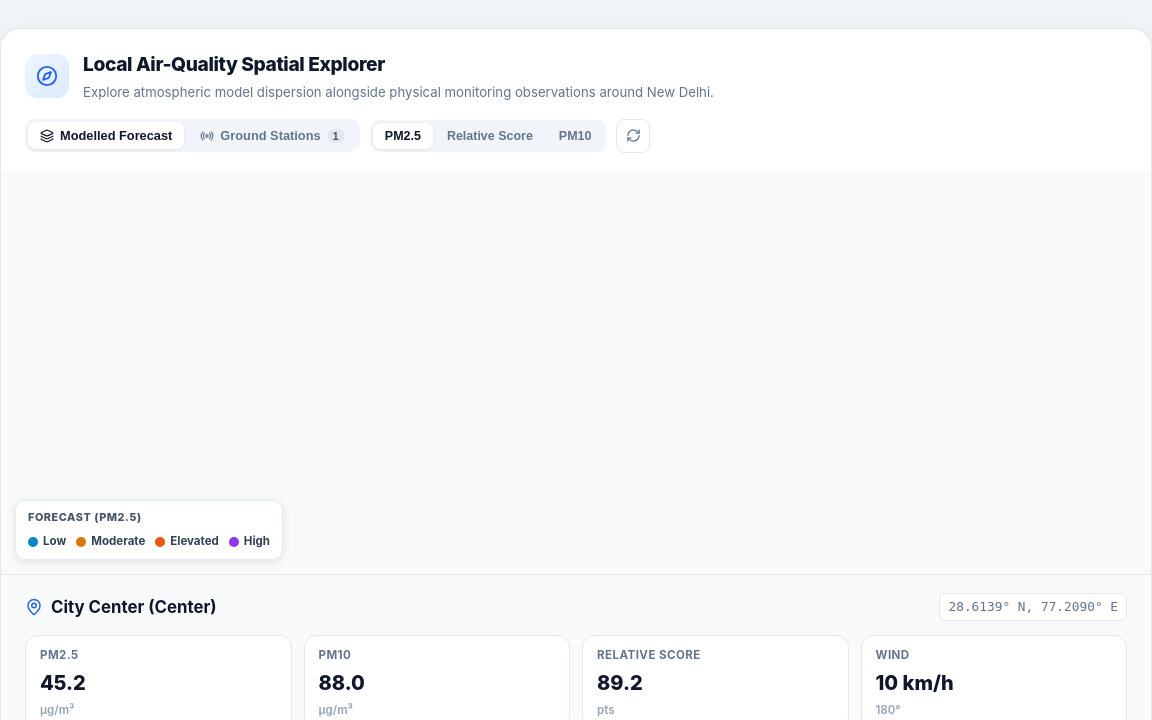
Test: AirQualityMap › displays outdated alert banner and disables numerical comparison when all stations are >48h old
Expected: the text "1" is shown, [327,129,345,143]
Step 1. Click the tab "Ground Stations 1" → (273, 136), box [188,122,357,149]
(page scrolled)
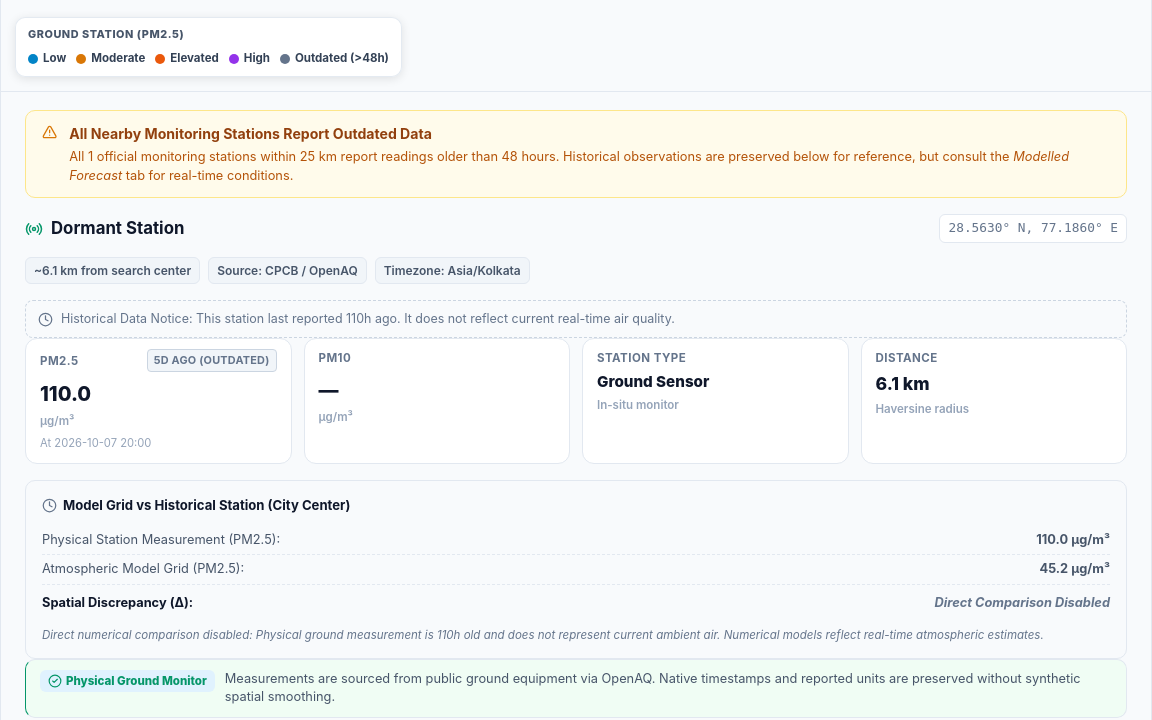
Expected: the text "All Nearby Monitoring Stations Report Outdated Data" is shown, [69,125,432,142]
Expected: the text "Direct Comparison Disabled" is shown, [935,593,1110,613]
Expected: the text "5d ago (Outdated)" is shown, [147,349,277,372]
